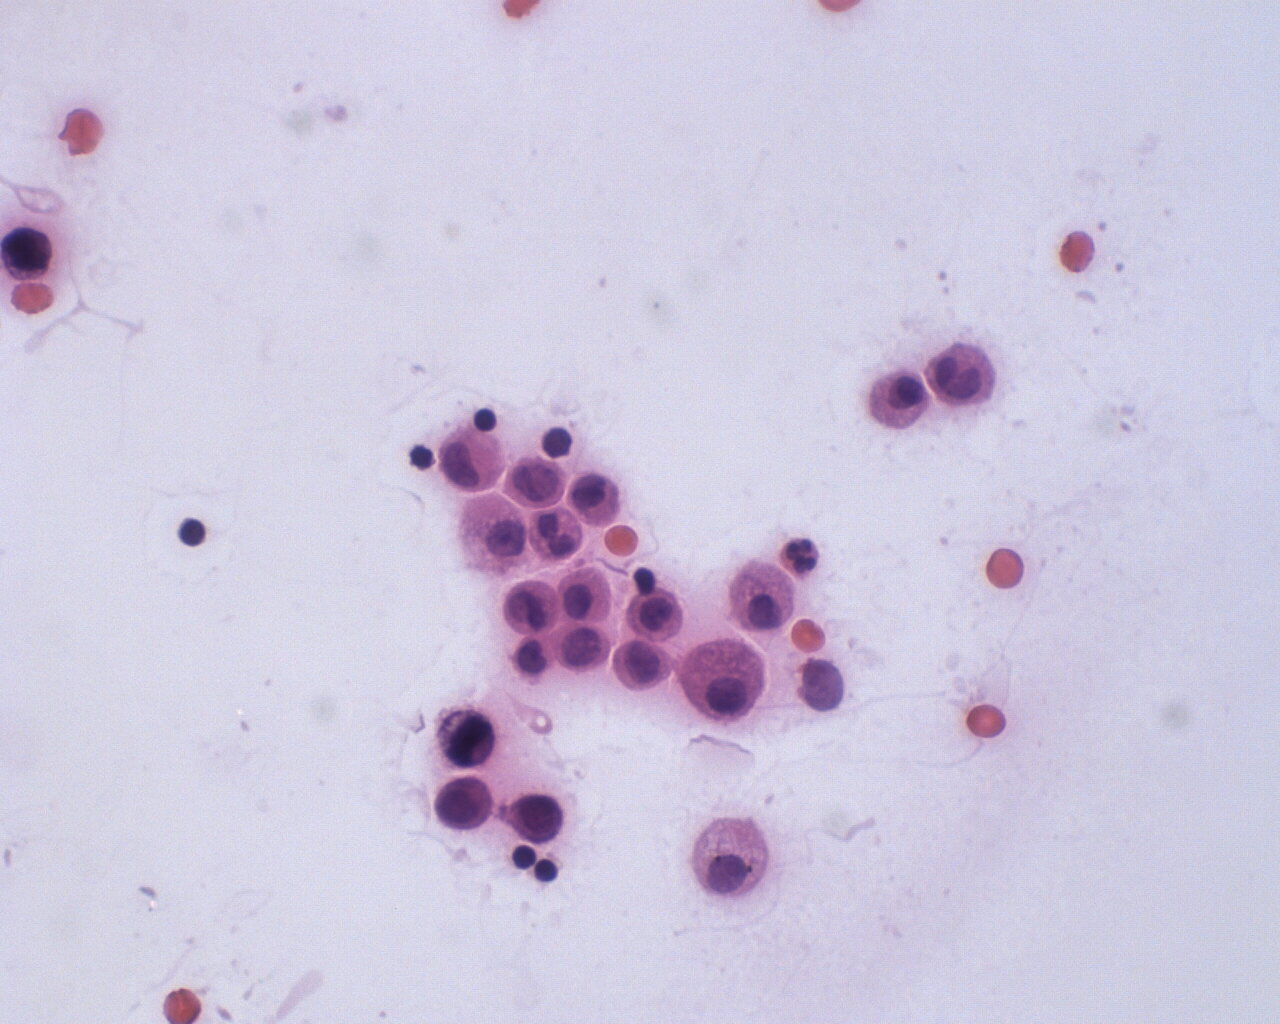ab: (435, 706, 498, 772), (503, 574, 565, 637), (505, 455, 569, 514), (434, 774, 496, 834), (552, 619, 613, 676), (613, 636, 672, 694), (1, 220, 54, 283), (508, 792, 566, 846)
lymph: (176, 517, 209, 552), (471, 404, 501, 438), (533, 855, 561, 887)
meso: (679, 632, 772, 726), (689, 812, 776, 903), (721, 556, 796, 636), (438, 423, 509, 494), (867, 366, 934, 435), (558, 564, 613, 625)
neutro: (782, 535, 827, 581)
